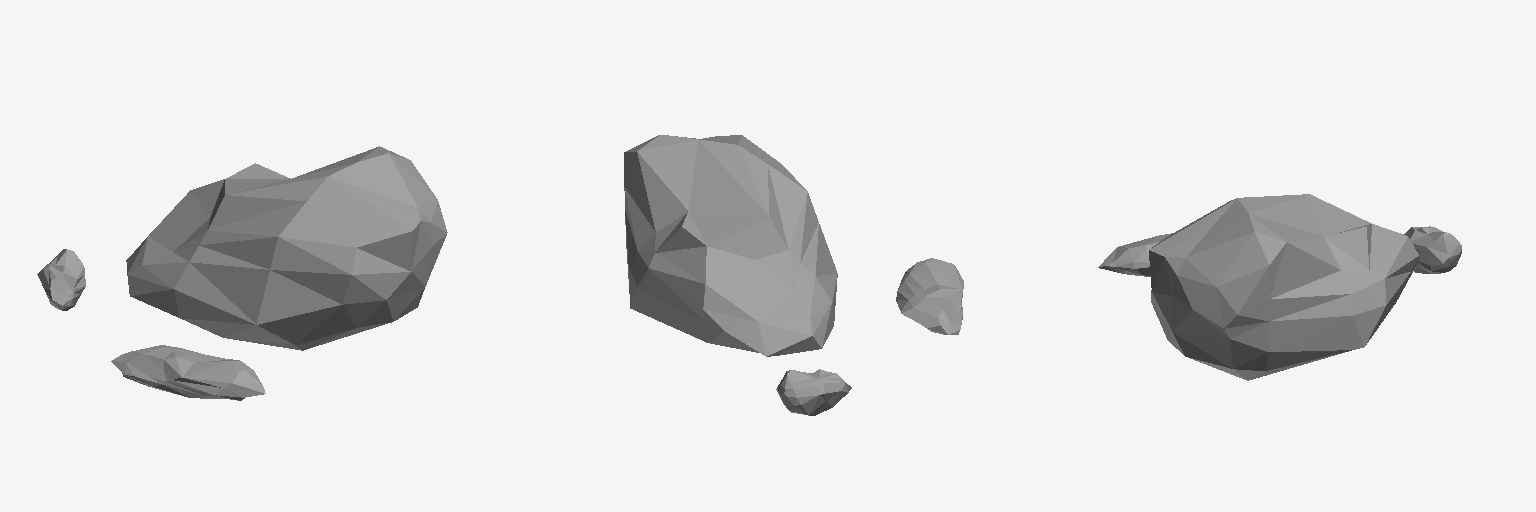
The model's file is Rock2.obj.
3 views of the same model, side by side, from view 1: azimuth 30°, elevation 25°; view 2: azimuth 150°, elevation 25°; view 3: azimuth 270°, elevation 25° (orthographic).
Visible parts, largest first — view 1: Nullo_Roccia_Cubo_12, Nullo_Roccia_Cubo_22, Nullo_Roccia_Cubo1; view 2: Nullo_Roccia_Cubo_12, Nullo_Roccia_Cubo_22, Nullo_Roccia_Cubo1; view 3: Nullo_Roccia_Cubo_12, Nullo_Roccia_Cubo1, Nullo_Roccia_Cubo_22.
Part boxes in pixels (x1,y1,x2,y2): Nullo_Roccia_Cubo_12: (126, 146, 447, 350); Nullo_Roccia_Cubo_22: (111, 345, 265, 400); Nullo_Roccia_Cubo1: (37, 249, 85, 310); Nullo_Roccia_Cubo_12: (624, 135, 837, 356); Nullo_Roccia_Cubo_22: (896, 258, 963, 334); Nullo_Roccia_Cubo1: (776, 369, 851, 415); Nullo_Roccia_Cubo_12: (1149, 194, 1418, 380); Nullo_Roccia_Cubo1: (1404, 226, 1461, 273); Nullo_Roccia_Cubo_22: (1098, 233, 1172, 276).
Size of the model in its own units: 285 by 141 by 278.